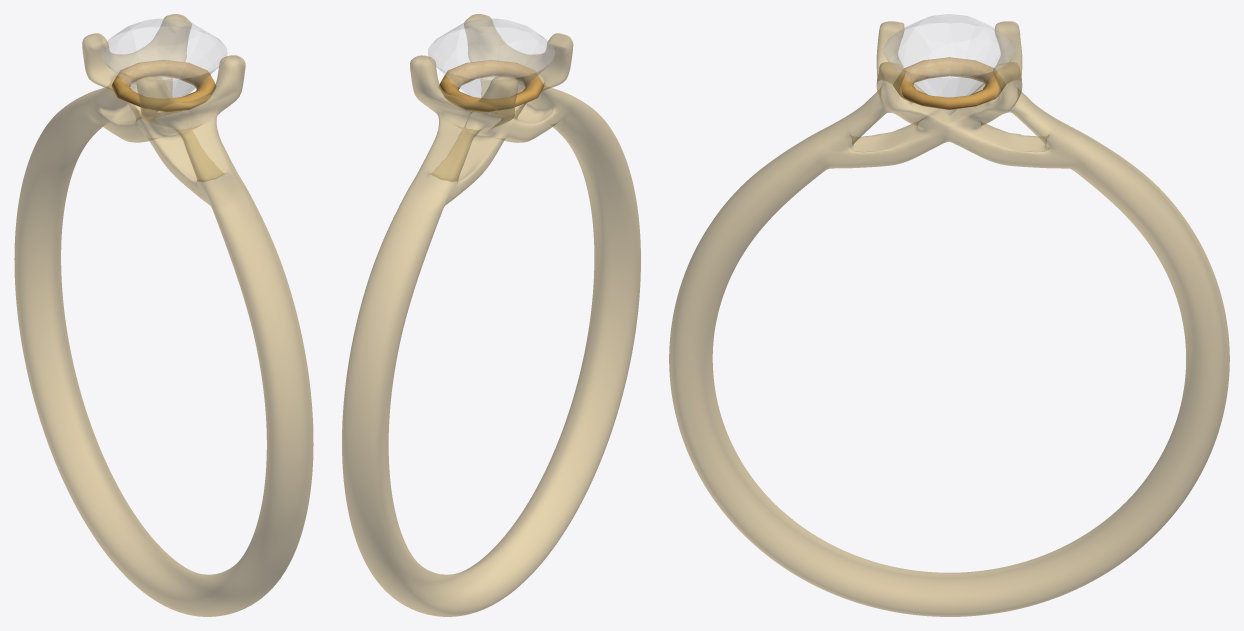
3 views of the same model, side by side, from view 1: azimuth 30°, elevation 25°; view 2: azimuth 150°, elevation 25°; view 3: azimuth 270°, elevation 25° (orthographic). The views are drawn at different scales.
Visible parts, largest first — view 1: Ring, Diamond; view 2: Ring, Diamond; view 3: Ring, Diamond.
Boxes of the visible parts, left/top/right/bottom form: Ring: left=14, top=14, right=313, bottom=616; Diamond: left=100, top=19, right=227, bottom=116; Ring: left=342, top=14, right=640, bottom=616; Diamond: left=428, top=19, right=554, bottom=116; Ring: left=669, top=21, right=1229, bottom=616; Diamond: left=884, top=14, right=1014, bottom=115.
Bounding box in the file's own units: 0.5448 × 2.67 × 2.32.
